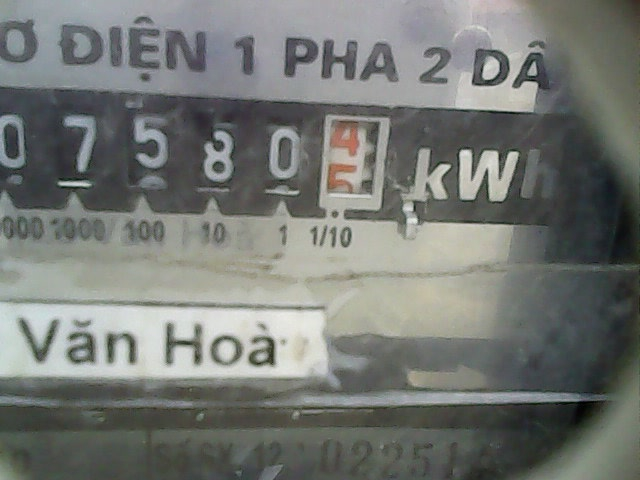phy_plate: (1, 86, 395, 225)
